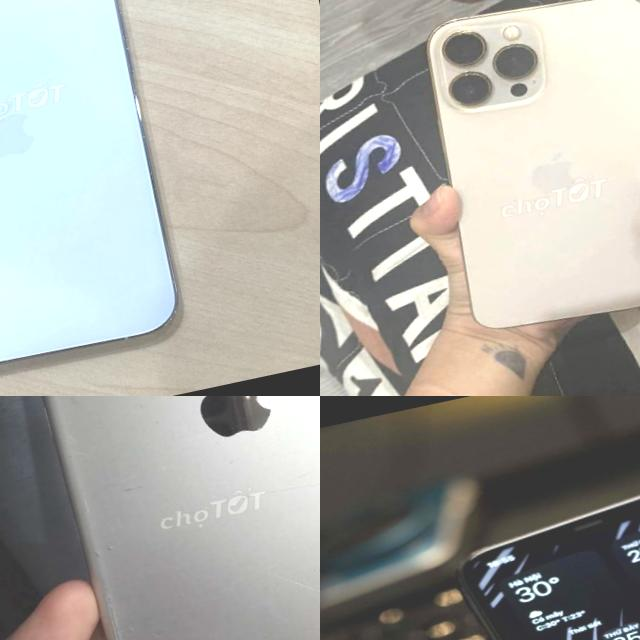gen_11: (459, 495, 640, 640)
gen_12_13: (0, 0, 236, 396), (401, 0, 640, 350)
gen_6: (41, 396, 320, 640)
